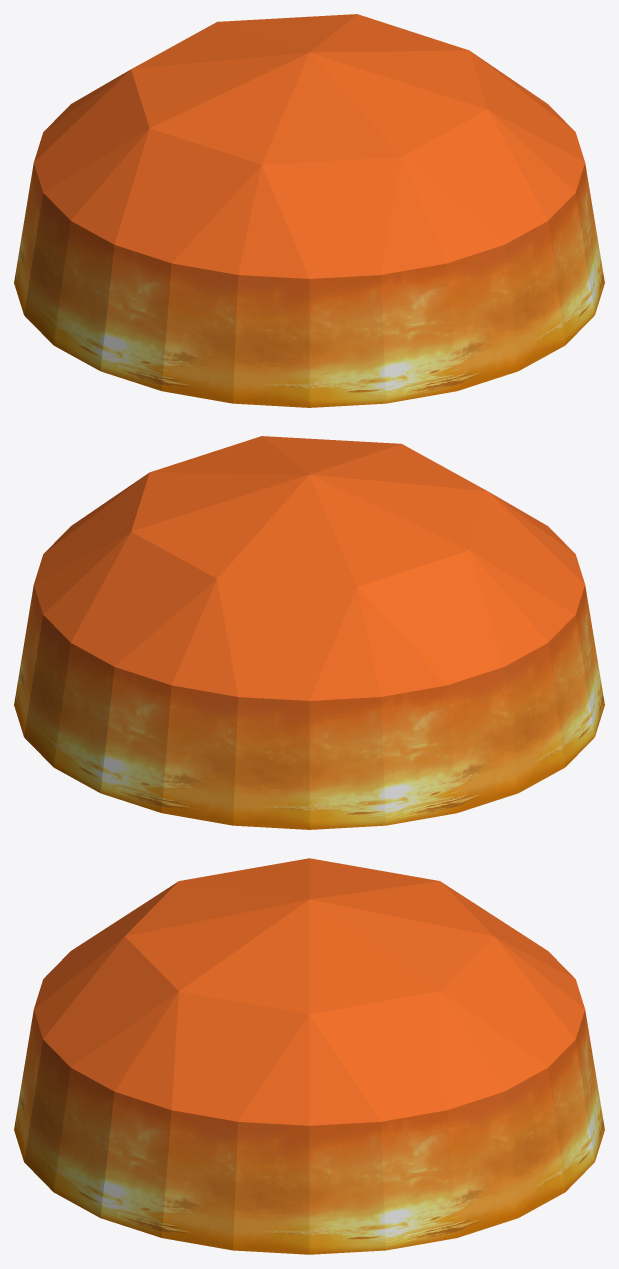
Rendered from Seaside Hill 10.fbx.
3 renders of one model, top to bottom at view 1: azimuth 30°, elevation 25°; view 2: azimuth 150°, elevation 25°; view 3: azimuth 270°, elevation 25°, orthographic.
Visible parts, largest first — view 1: Seaside hill 10; view 2: Seaside hill 10; view 3: Seaside hill 10.
Boxes of the visible parts, box(x1,y1,x2,y2) form: Seaside hill 10: box(14, 14, 604, 407); Seaside hill 10: box(14, 436, 604, 829); Seaside hill 10: box(14, 858, 604, 1254).
Size of the model in its own units: 1.26e+07 by 5458891 by 1.26e+07.
